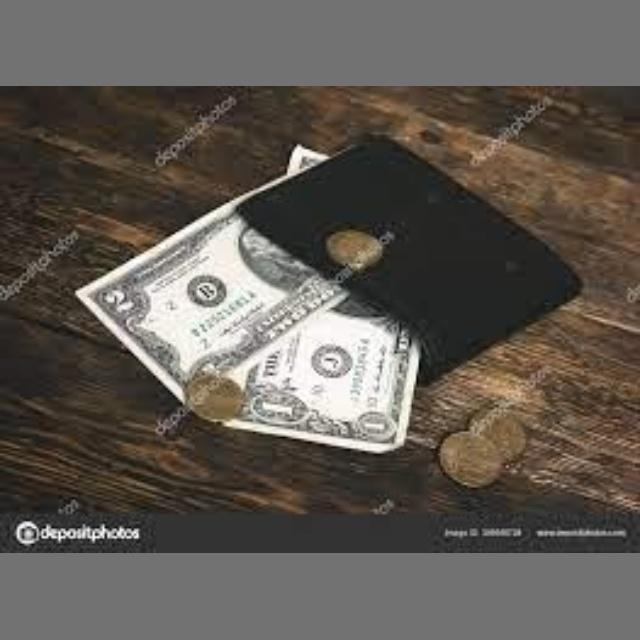Wallet: (181, 116, 607, 367)
